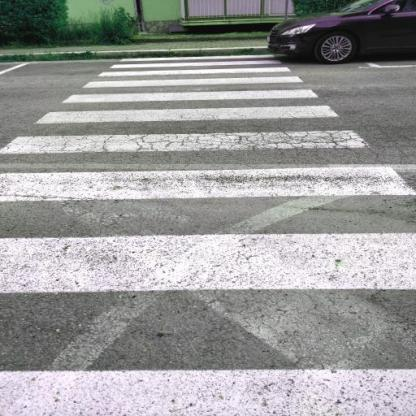crosswalk: (0, 161, 415, 304), (31, 87, 348, 127)
